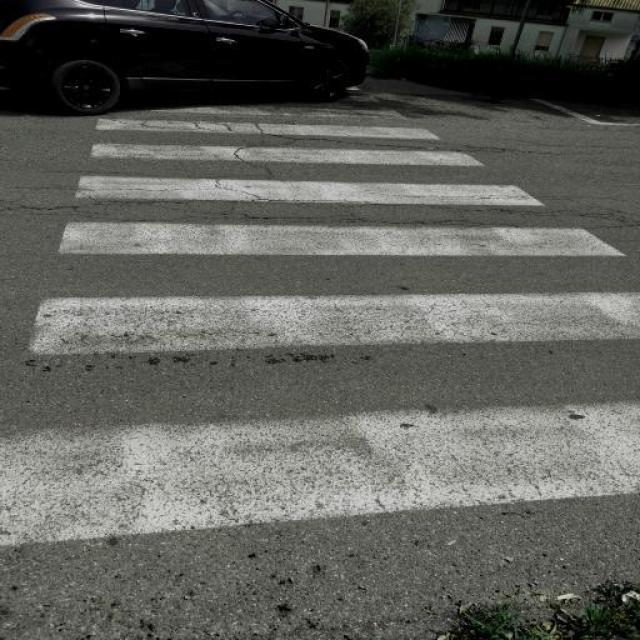faded_crosswalk: (1, 100, 640, 548)
